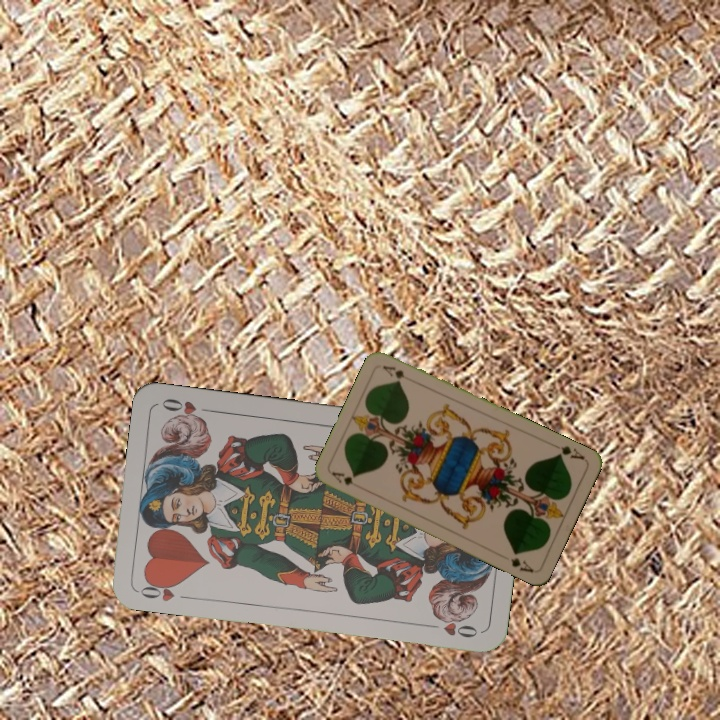GA: (328, 468, 366, 492), (553, 442, 587, 463)
HO: (134, 575, 182, 604)
